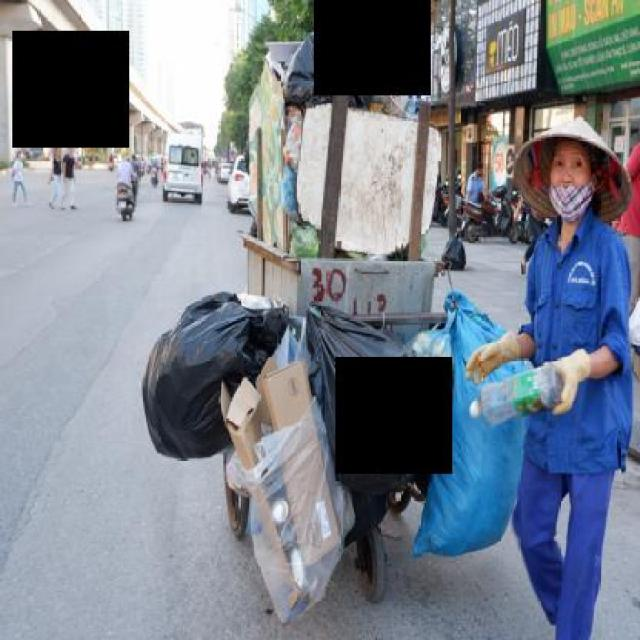plastic bag: (403, 271, 575, 575), (247, 28, 438, 264), (215, 317, 358, 628), (277, 320, 435, 571), (144, 290, 304, 496), (363, 28, 426, 110)
